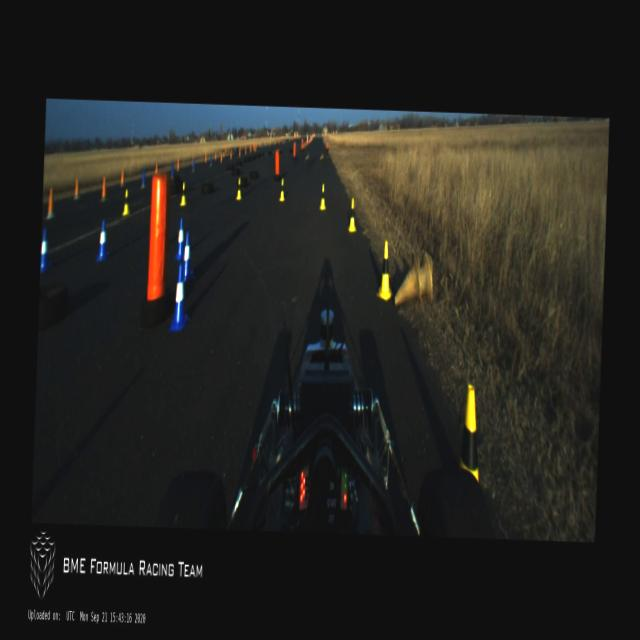blue_cone: (167, 262, 191, 334), (181, 232, 195, 282), (96, 220, 110, 262), (40, 228, 52, 274), (174, 217, 186, 260)
yellow_cone: (458, 384, 482, 492), (376, 240, 394, 301), (347, 197, 358, 233), (319, 183, 327, 211), (122, 189, 130, 215), (180, 181, 187, 207), (278, 177, 285, 202), (235, 176, 242, 200)
